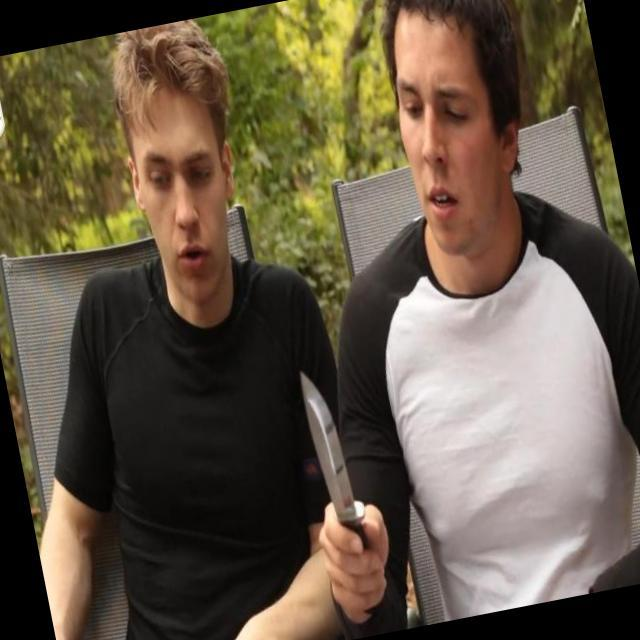Knife: (282, 346, 395, 588)
